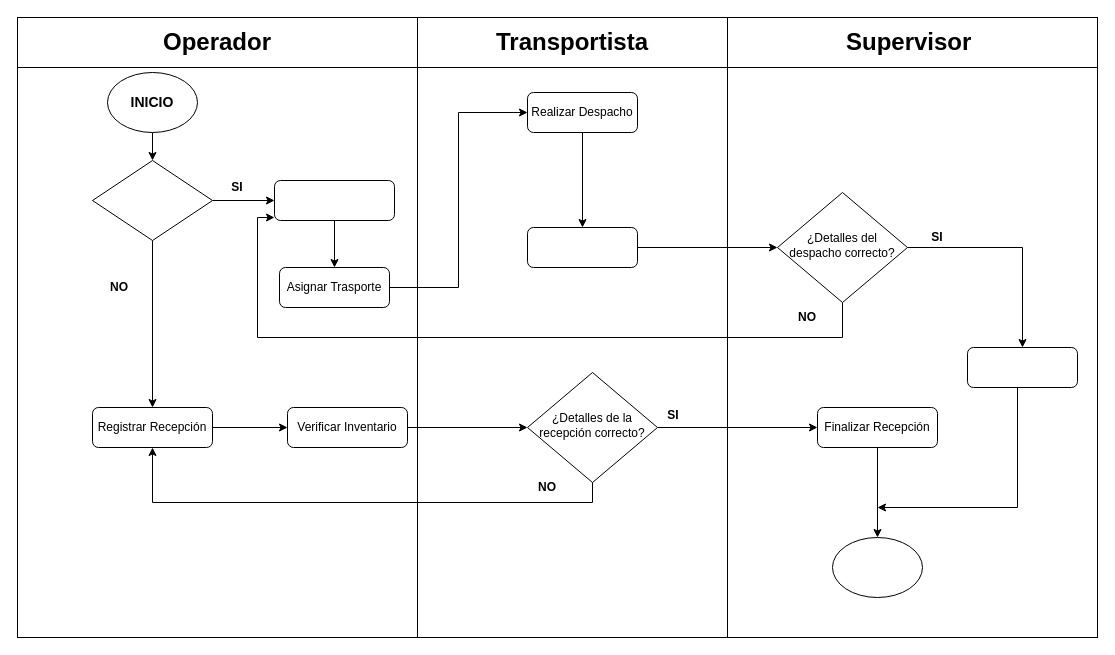
The diagram is 1115 pixels wide and 655 high, and some of its shapes have lost their labels. Each missing label, with the centre of its shape:
"Cerrar Despacho" goes at point 1022,367.
"Confirmar Entrrega" goes at point 582,247.
"FIN" goes at point 877,567.
"Seleccionar Producto" goes at point 334,200.
"¿Despacho de Prodcutos?" goes at point 152,200.
